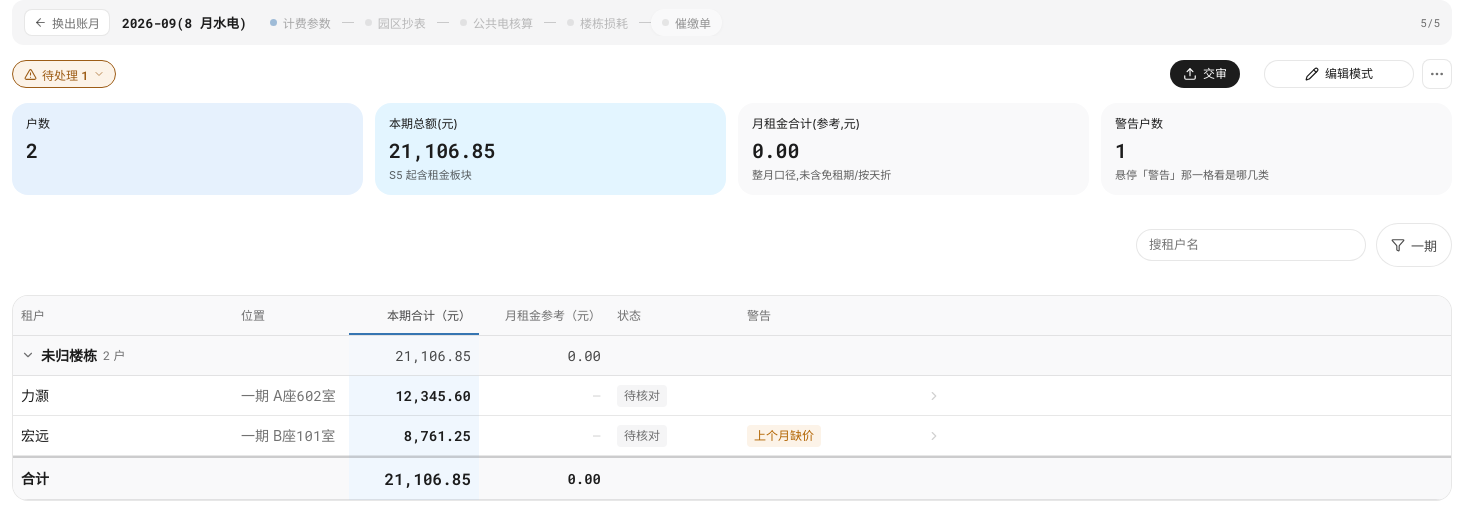
§5.10 屏标题行 —— 屏名不上屏,动作收成 1 主 +「⋯」,状态留一颗徽标 › M 档:顶栏根本不渲染(AppShell:162)⇒ 主动作留屏内 2 个:编辑模式 + 生成(编辑态)
What coordinates should you click on to do the following:
click the button with class "fp-emb"
I would click on:
 (1339, 74)
Its box is [1264,60,1414,88].
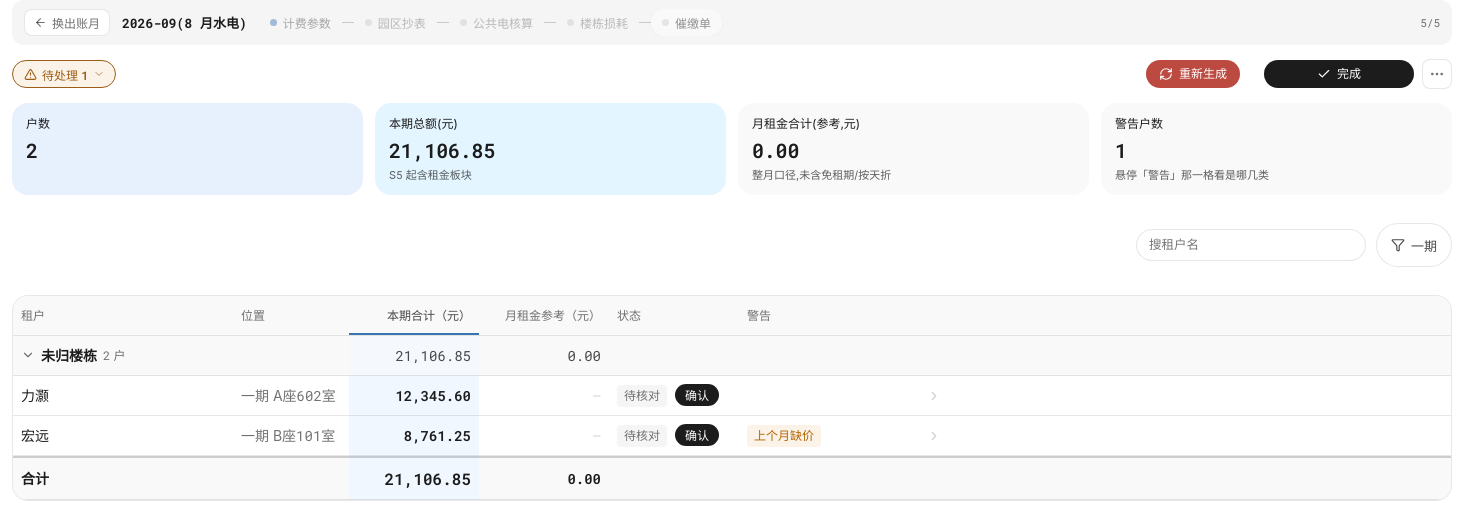
What coordinates should you click on to do the following:
click the button with class "fp-more-btn"
I would click on:
 (1437, 74)
Its box is [1422,59,1452,89].
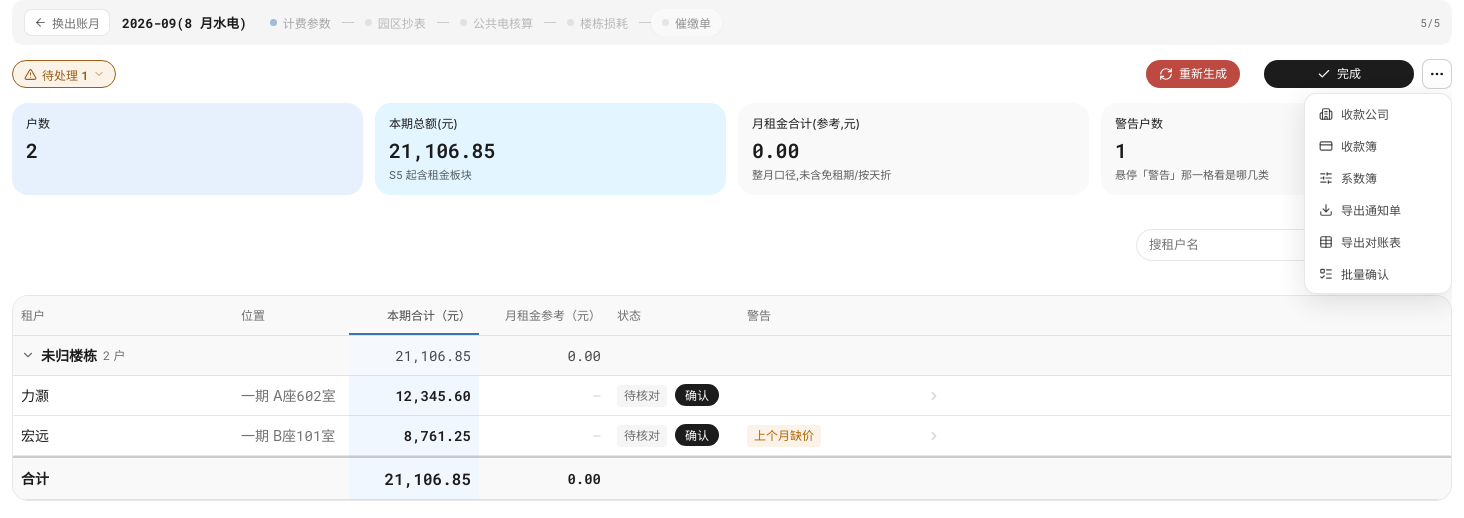
Result: the menu item with class "fp-more-item" reads "批量确认" at [1309,258,1447,289]
